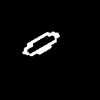chain: (23, 32, 58, 55)
